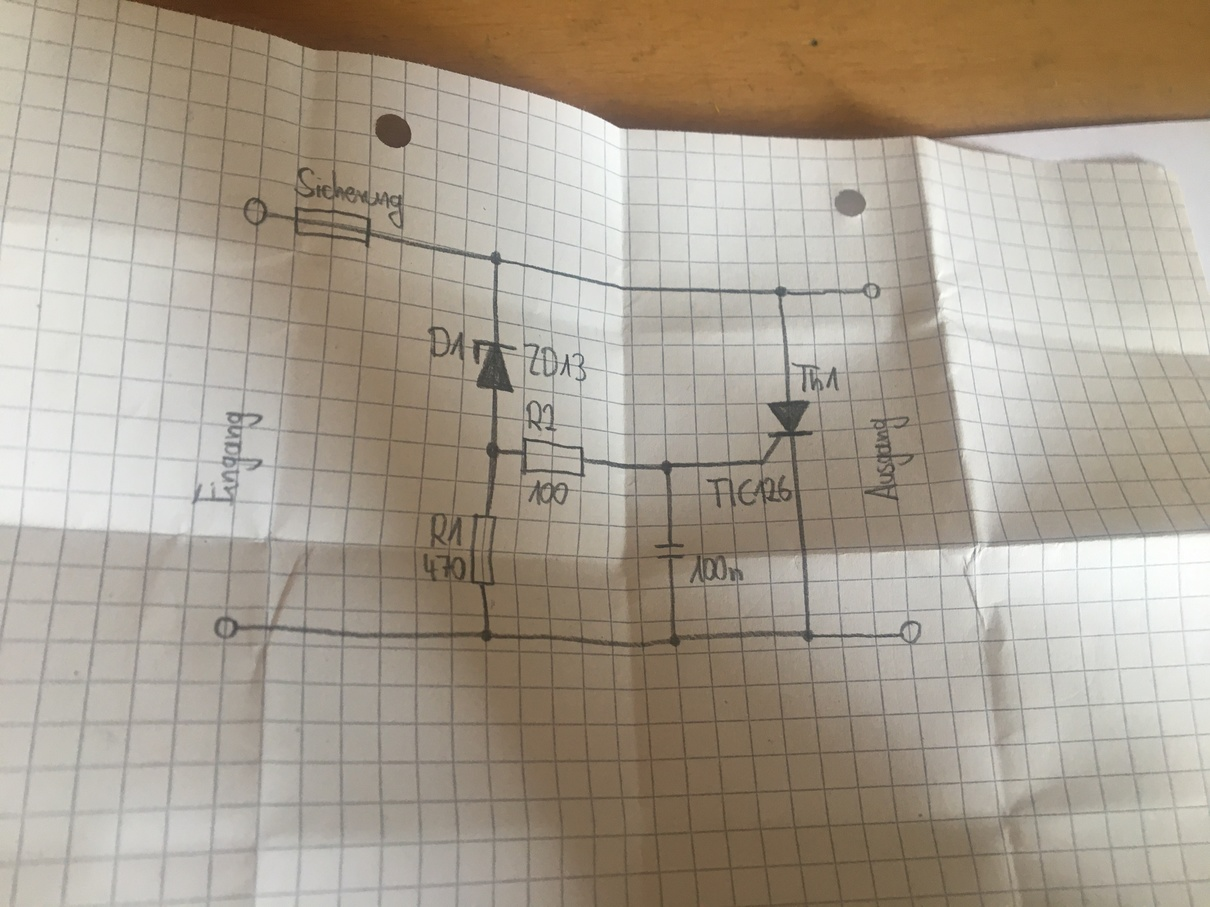capacitor.unpolarized: (652, 539, 687, 563)
diode: (470, 337, 519, 395)
fuse: (290, 203, 377, 251)
junction: (487, 248, 506, 268), (484, 440, 503, 460), (773, 283, 792, 300), (667, 631, 684, 649), (659, 459, 675, 477), (479, 626, 495, 643), (801, 627, 817, 644)
resistor: (516, 434, 589, 482), (467, 507, 500, 591)
terminal: (241, 195, 270, 228), (897, 617, 924, 647), (212, 614, 241, 641), (861, 280, 883, 301)
text: (292, 165, 406, 230), (190, 409, 266, 506), (862, 414, 917, 503), (704, 473, 794, 510), (522, 340, 589, 383), (687, 553, 747, 584), (791, 361, 842, 394), (426, 324, 468, 363), (420, 551, 468, 584), (428, 511, 465, 552), (525, 477, 570, 507), (525, 397, 558, 434)
thyristor: (759, 398, 815, 466)
